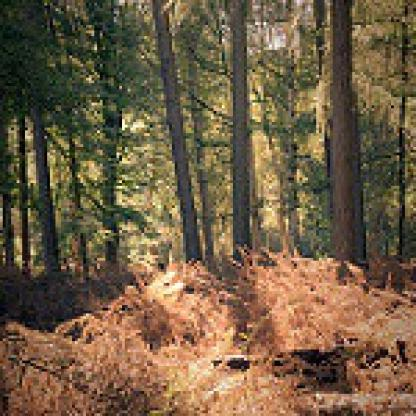trunk: (152, 0, 203, 264), (324, 0, 369, 264), (228, 0, 252, 258), (30, 114, 64, 280), (100, 95, 125, 266), (64, 136, 94, 277), (394, 3, 410, 263), (0, 197, 14, 269)
